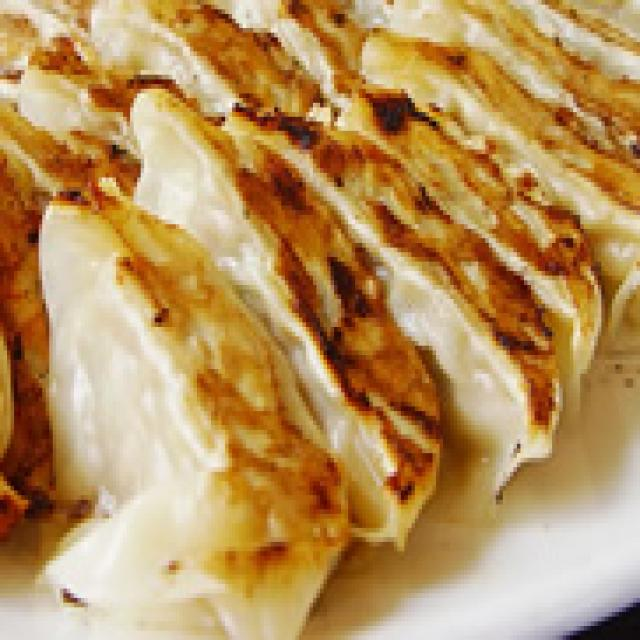带馅早点: (0, 0, 626, 626)
